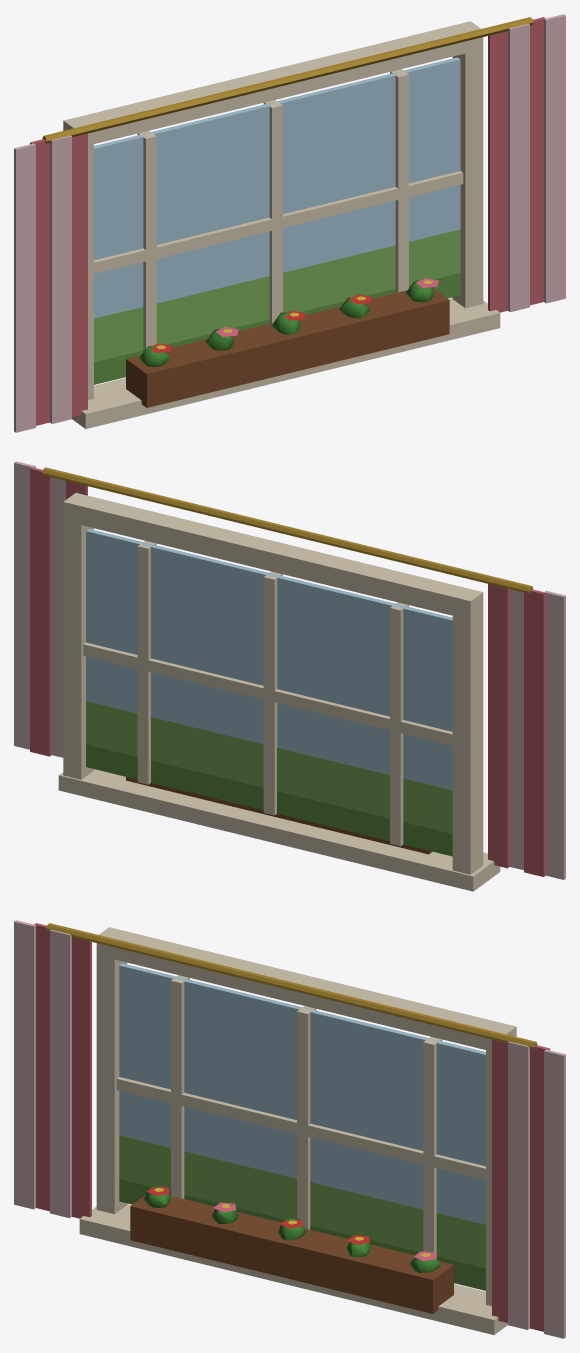
Rendered from farmhouse_window.glb.
3 views of the same model, one above another, from view 1: azimuth 30°, elevation 25°; view 2: azimuth 150°, elevation 25°; view 3: azimuth 330°, elevation 25° (orthographic).
Parts seen in each view (by area): view 1: furniture-farmhouse_window; view 2: furniture-farmhouse_window; view 3: furniture-farmhouse_window.
Part boxes in pixels (x1=…): furniture-farmhouse_window: x1=14, y1=14, x2=565, y2=432; furniture-farmhouse_window: x1=14, y1=461, x2=565, y2=891; furniture-farmhouse_window: x1=14, y1=920, x2=565, y2=1338.
Bounding box in the file's own units: 2.91 × 1.5 × 0.2959.
